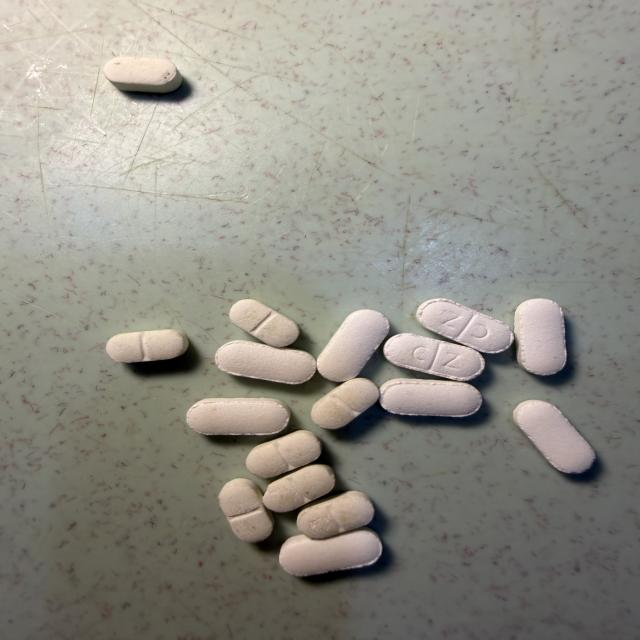pill: (513, 400, 595, 473), (417, 299, 513, 353), (318, 310, 389, 381), (280, 528, 382, 576), (384, 334, 484, 381), (216, 341, 315, 384), (380, 379, 482, 417), (515, 299, 566, 375), (187, 398, 290, 435), (297, 491, 374, 539), (311, 378, 379, 429), (246, 431, 321, 477), (219, 479, 273, 542), (229, 299, 299, 347), (264, 465, 335, 512), (104, 57, 182, 93), (106, 330, 188, 362)
